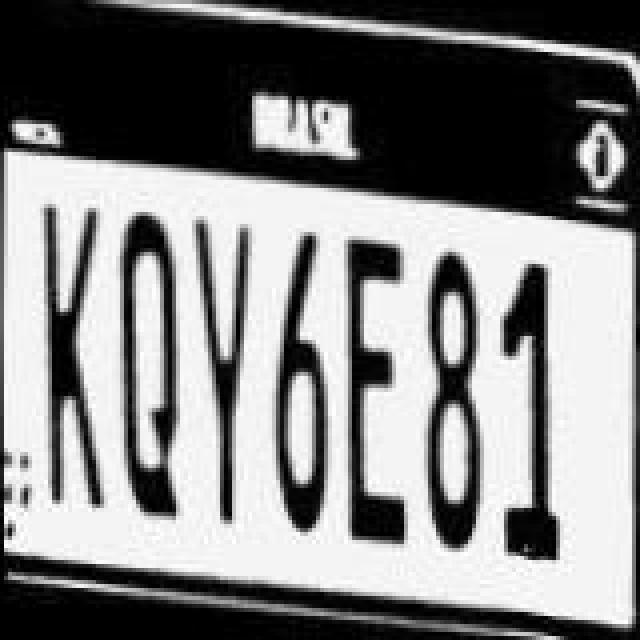1: (490, 260, 566, 564)
6: (266, 220, 338, 536)
8: (418, 246, 486, 554)
E: (338, 224, 414, 548)
K: (38, 204, 110, 508)
Q: (114, 208, 186, 520)
Y: (188, 222, 256, 530)
